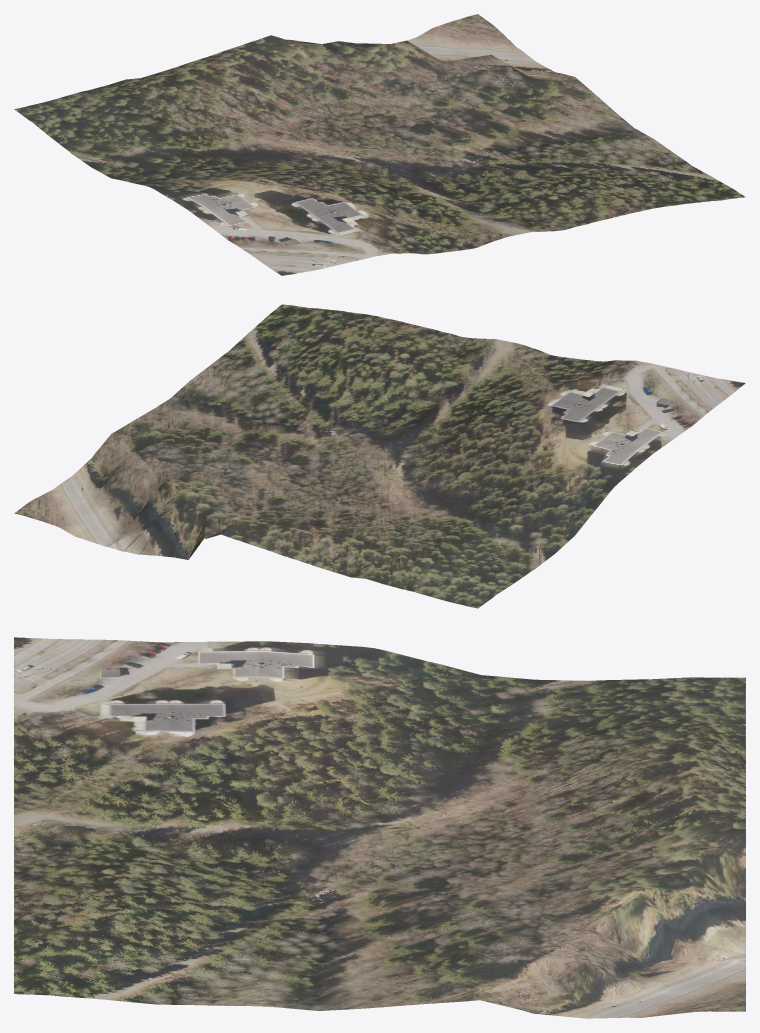
Rendered from CM_Terrain_24491278_6817541.fbx.
3 renders of one model, top to bottom at view 1: azimuth 30°, elevation 25°; view 2: azimuth 150°, elevation 25°; view 3: azimuth 270°, elevation 25°, orthographic. The views are drawn at different scales.
Parts seen in each view (by area): view 1: CM_Terrain_24491278_6817541_LOD0; view 2: CM_Terrain_24491278_6817541_LOD0; view 3: CM_Terrain_24491278_6817541_LOD0.
Part boxes in pixels (box(x1,y1,x2,y2)): CM_Terrain_24491278_6817541_LOD0: box(14, 14, 745, 275); CM_Terrain_24491278_6817541_LOD0: box(14, 304, 745, 608); CM_Terrain_24491278_6817541_LOD0: box(14, 637, 745, 1018).
Size of what is drawn, in the model's own units: 205 by 24.99 by 205.
